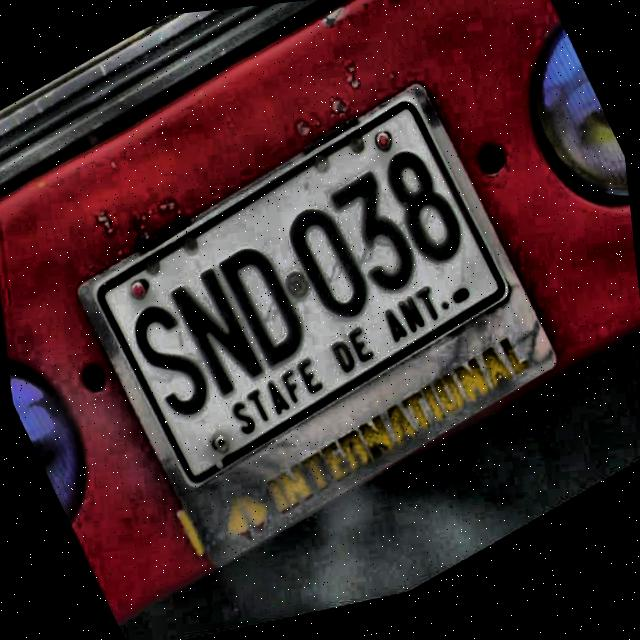0: (278, 195, 380, 331)
3: (322, 162, 428, 303)
8: (373, 139, 475, 272)
D: (213, 235, 313, 374)
N: (162, 261, 270, 406)
S: (119, 291, 222, 433)
